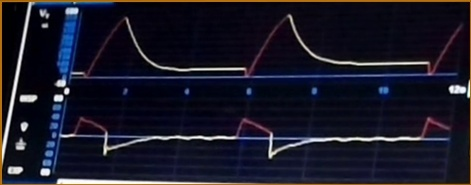Flow: (64, 109, 450, 170)
Leakage Volume: (76, 14, 462, 84)
